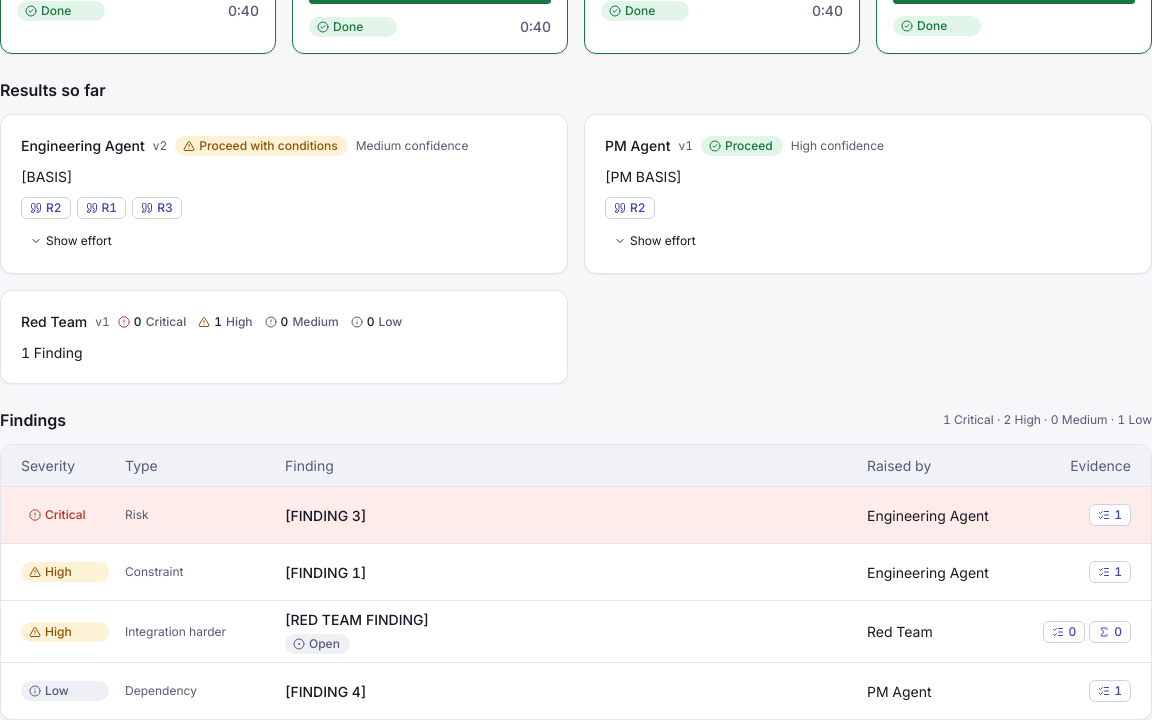
Test case: one Finding selected across the tab › passes the Opportunity to the Red Team inspector: a Finding the caller may resolve shows its actions (Story 6.6)
(page scrolled)
Click the button "High Integration harder [RED TEAM FINDING] Open Red Team 0 0". click: (65,632)
box: 1,601 -> 1151,662
(page scrolled)
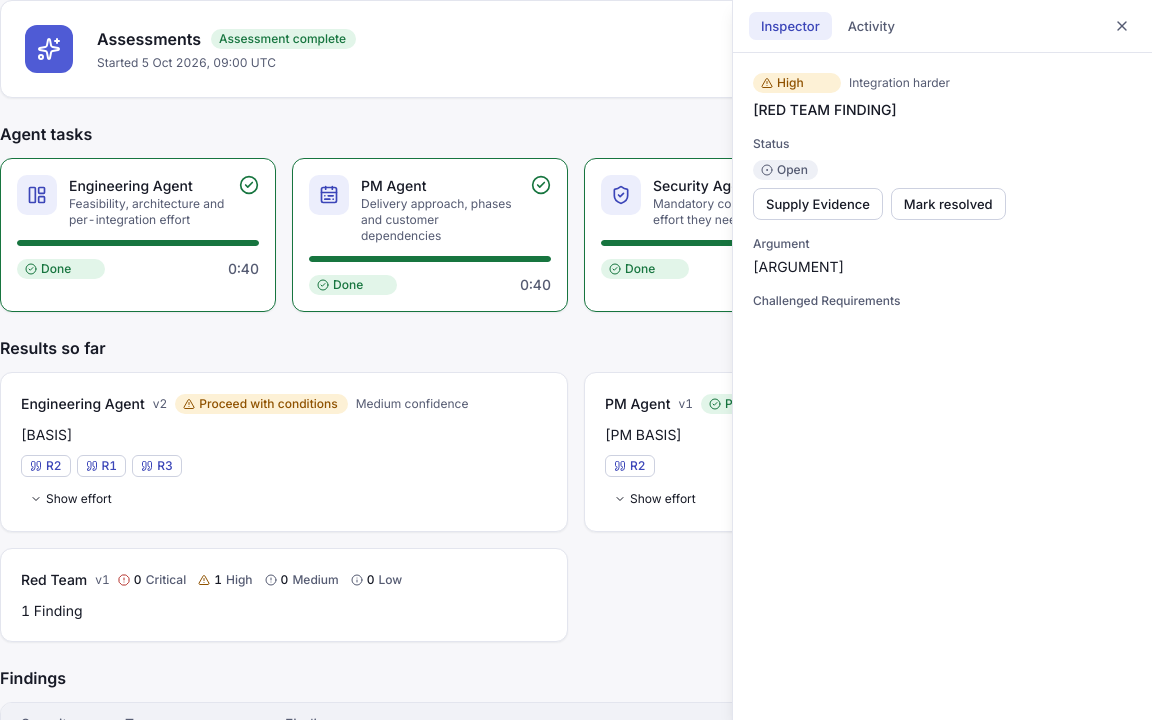
Result: the button "Supply Evidence" is shown at 753,188 -> 883,220
